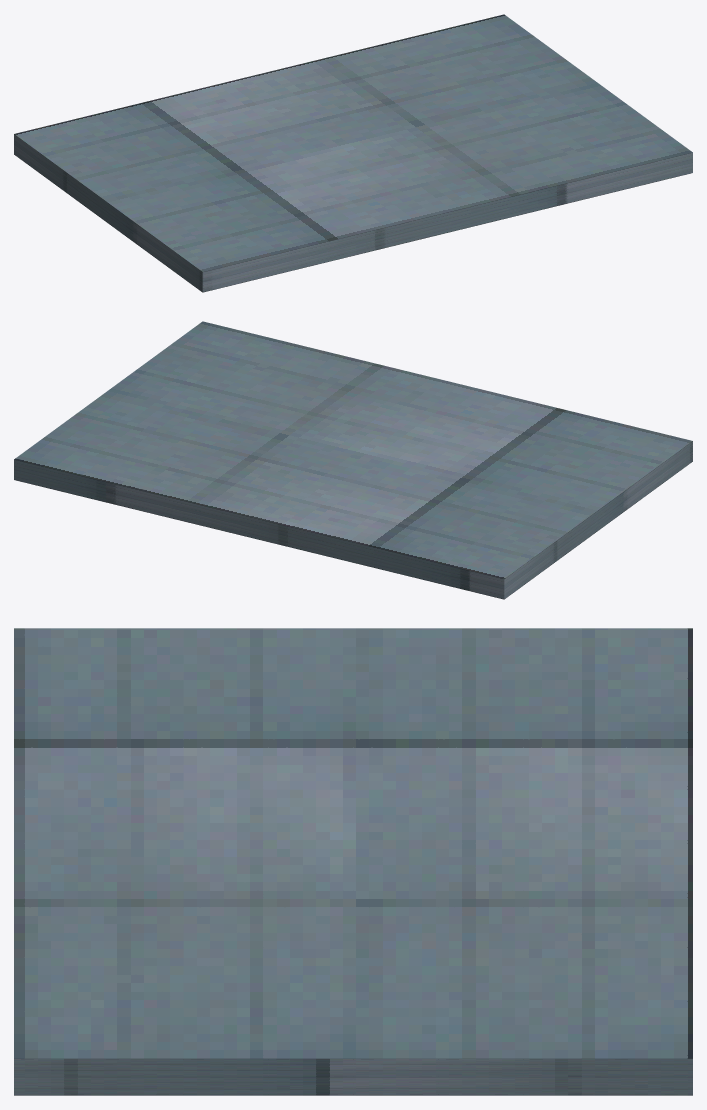
Rendered from Floor-Un.gltf.
3 renders of one model, top to bottom at view 1: azimuth 30°, elevation 25°; view 2: azimuth 150°, elevation 25°; view 3: azimuth 270°, elevation 25°, orthographic. The views are drawn at different scales.
Parts seen in each view (by area): view 1: Cube; view 2: Cube; view 3: Cube.
Boxes of the visible parts, <box> form: Cube: <box>14,14,692,292</box>; Cube: <box>14,321,692,599</box>; Cube: <box>14,628,692,1095</box>.
Size of the model in its own units: 50 by 2 by 33.33.
Materials: 1 (1 with a texture image).
